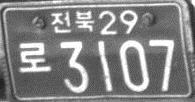0: (119, 39, 150, 92)
1: (95, 38, 114, 93)
2: (98, 9, 118, 36)
3: (58, 40, 89, 94)
7: (147, 37, 175, 91)
9: (118, 8, 138, 36)
로: (17, 38, 57, 73)
전북_O: (50, 8, 94, 34)
